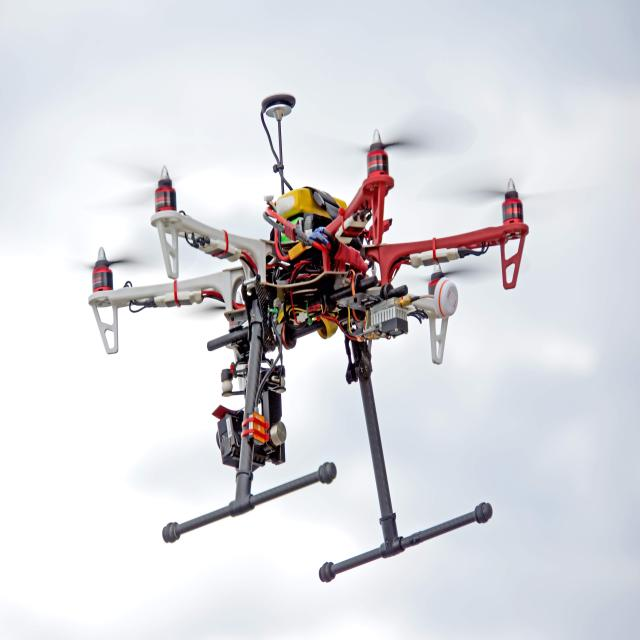drone: (62, 117, 566, 408)
